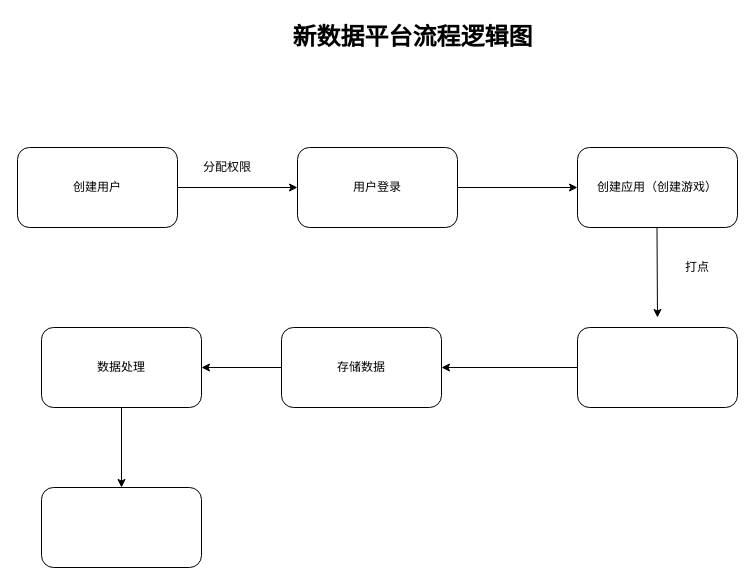
The diagram is 755 pixels wide and 585 high, and some of its shapes have lost their labels. Here are the shapes that lost their labels. From the top down, the box of each, then its label:
(576, 326, 738, 408): 数据上报
(40, 486, 202, 568): 前端展示
